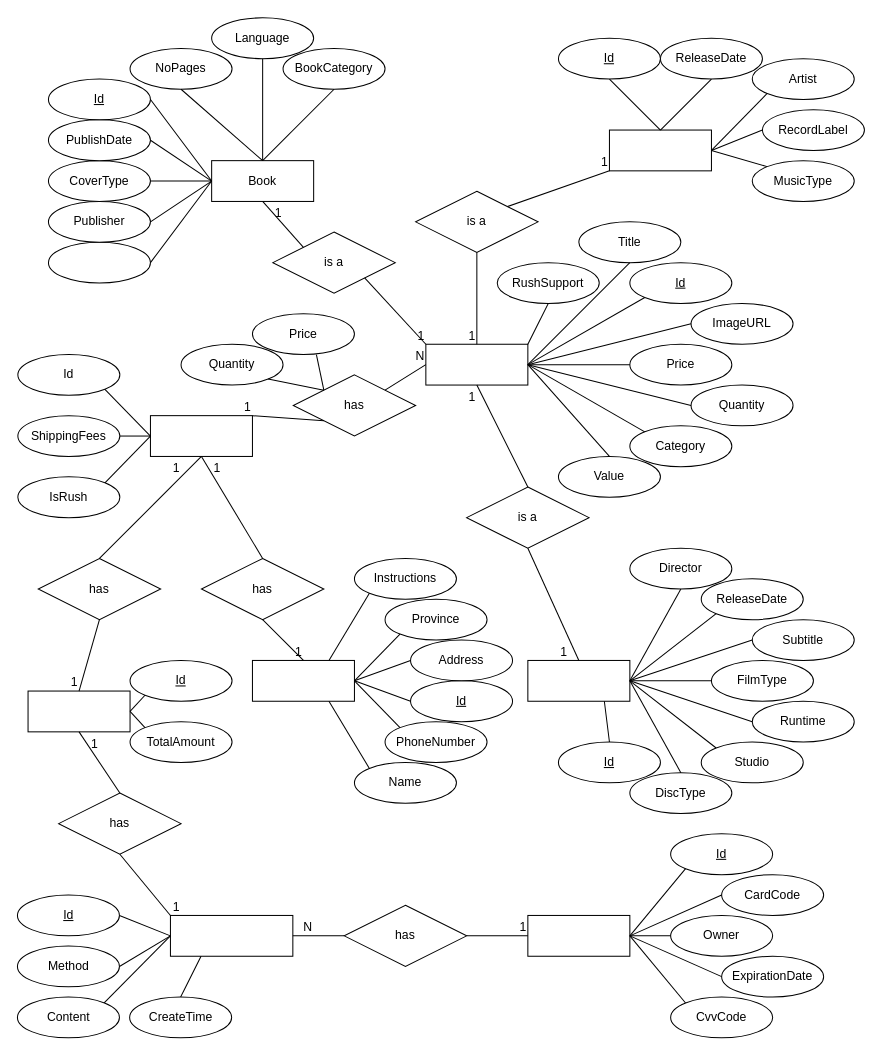
Image size: 883x1056. Some labels were removed from this diagram. Here are the shapes that lost their labels. From the top down, the centre of each, then its label:
At [659,150]: "CD".
At [98,262]: "Author".
At [476,364]: "Media".
At [200,435]: "Order".
At [302,680]: "DeliveryInfo".
At [578,680]: "DVD".
At [78,711]: "Invoice".
At [231,935]: "PaymentTransaction".
At [578,935]: "CreditCard".
